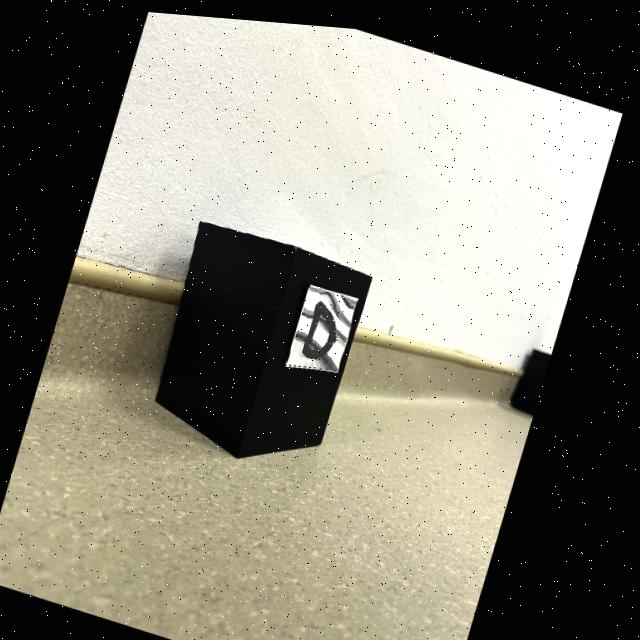D: (307, 295, 341, 353)
